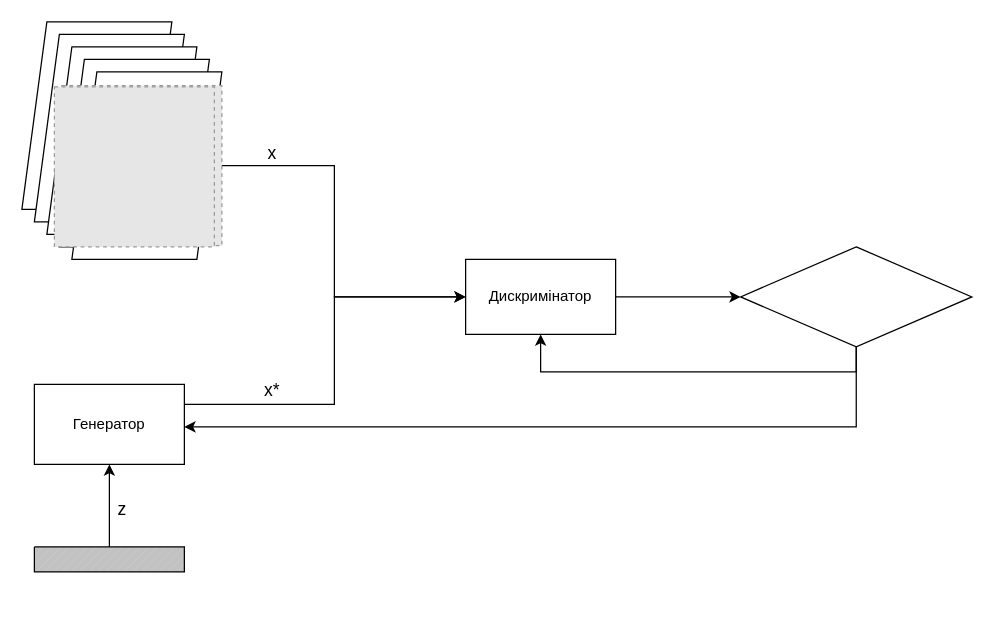
Some shapes in this 994 by 624 pixel diagram are drawn without their labels. Grey dashed boxes stand in for pictures. Here are the shapes that lost their labels. From the top down, the box of each, then its label:
(739, 246, 972, 347): Помилка класифікації
(33, 546, 184, 572): Випадковий шум
